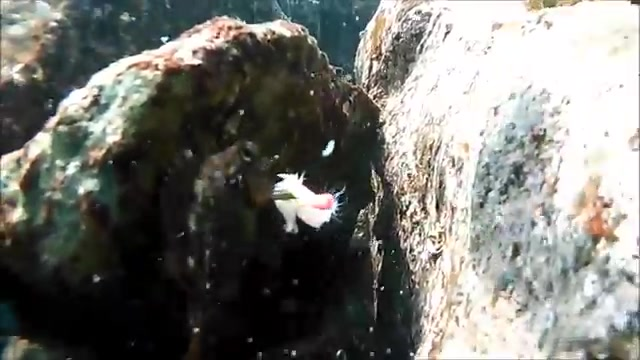mebaru: (160, 124, 277, 358)
